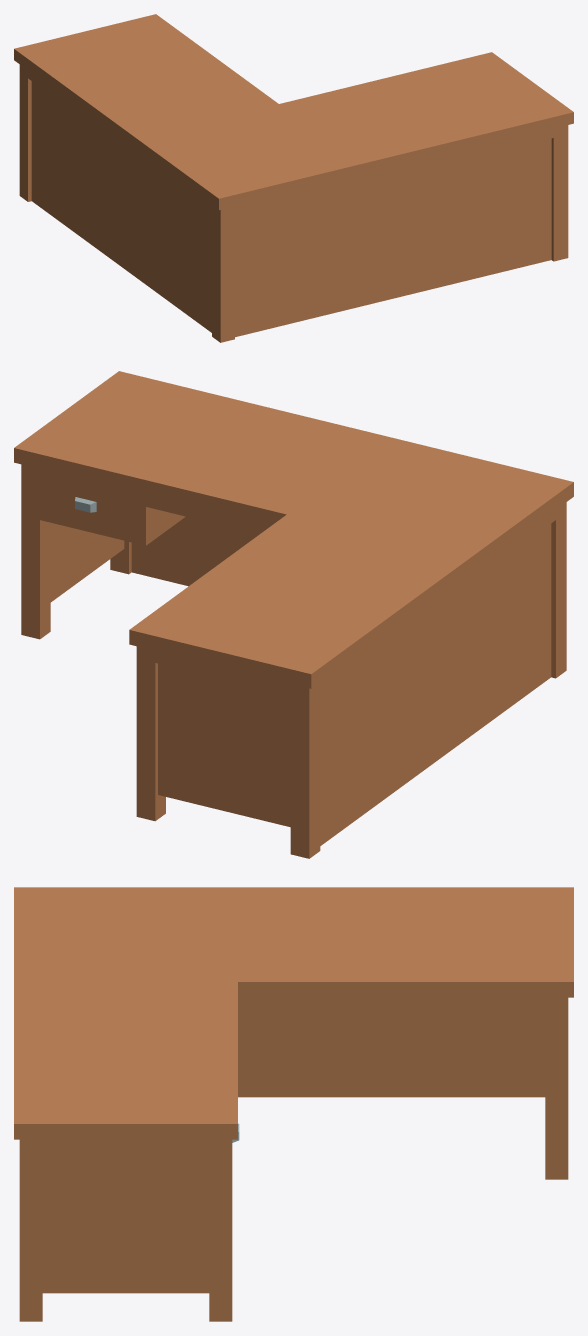
File: desk.glb
3 renders of one model, top to bottom at view 1: azimuth 30°, elevation 25°; view 2: azimuth 150°, elevation 25°; view 3: azimuth 270°, elevation 25°, orthographic. The views are drawn at different scales.
Parts seen in each view (by area): view 1: desk; view 2: desk; view 3: desk.
Boxes of the visible parts, box(x1,y1,x2,y2) form: desk: box(14, 14, 573, 342); desk: box(14, 371, 573, 858); desk: box(14, 887, 573, 1321).
Bounding box in the file's own units: 1 × 0.3945 × 1.
